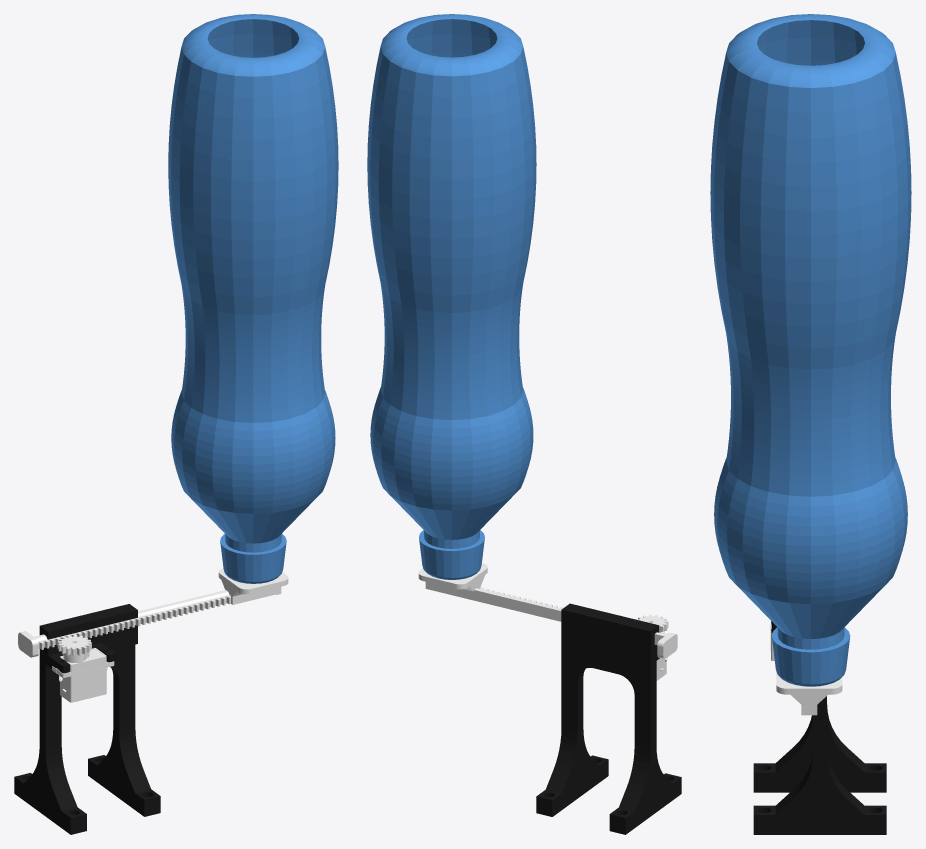
File: DigitalTwin.gltf
3 renders of one model, left to right at view 1: azimuth 30°, elevation 25°; view 2: azimuth 150°, elevation 25°; view 3: azimuth 270°, elevation 25°, orthographic. The views are drawn at different scales.
Parts seen in each view (by area): view 1: Water_Bottle, Motor_Bracket_Mini_Version_mod, Pusher_150mm_Long_mod, SG90 - Micro Servo 9g - Tower Pro, Pinion_Gear_Mini_Version; view 2: Water_Bottle, Motor_Bracket_Mini_Version_mod, Pusher_150mm_Long_mod; view 3: Water_Bottle, Motor_Bracket_Mini_Version_mod, Pusher_150mm_Long_mod.
Part boxes in pixels (left/top/right/bottom): Water_Bottle: left=168, top=14, right=338, bottom=583; Motor_Bracket_Mini_Version_mod: left=14, top=604, right=160, bottom=834; Pusher_150mm_Long_mod: left=18, top=568, right=288, bottom=657; SG90 - Micro Servo 9g - Tower Pro: left=52, top=641, right=114, bottom=702; Pinion_Gear_Mini_Version: left=57, top=635, right=91, bottom=657; Water_Bottle: left=367, top=14, right=536, bottom=579; Motor_Bracket_Mini_Version_mod: left=536, top=603, right=681, bottom=834; Pusher_150mm_Long_mod: left=418, top=563, right=677, bottom=658; Water_Bottle: left=710, top=14, right=911, bottom=686; Motor_Bracket_Mini_Version_mod: left=753, top=621, right=886, bottom=834; Pusher_150mm_Long_mod: left=776, top=672, right=842, bottom=715.
Size of the model in its own units: 184 by 430 by 91.07.
